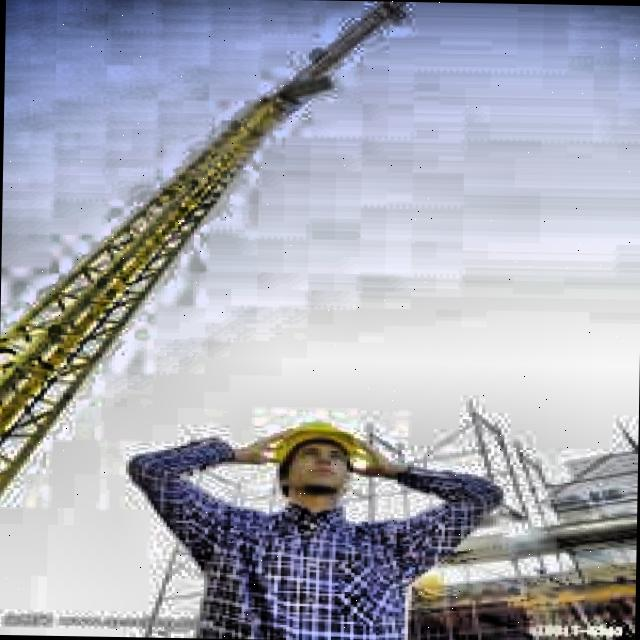helmet: (250, 411, 382, 514)
